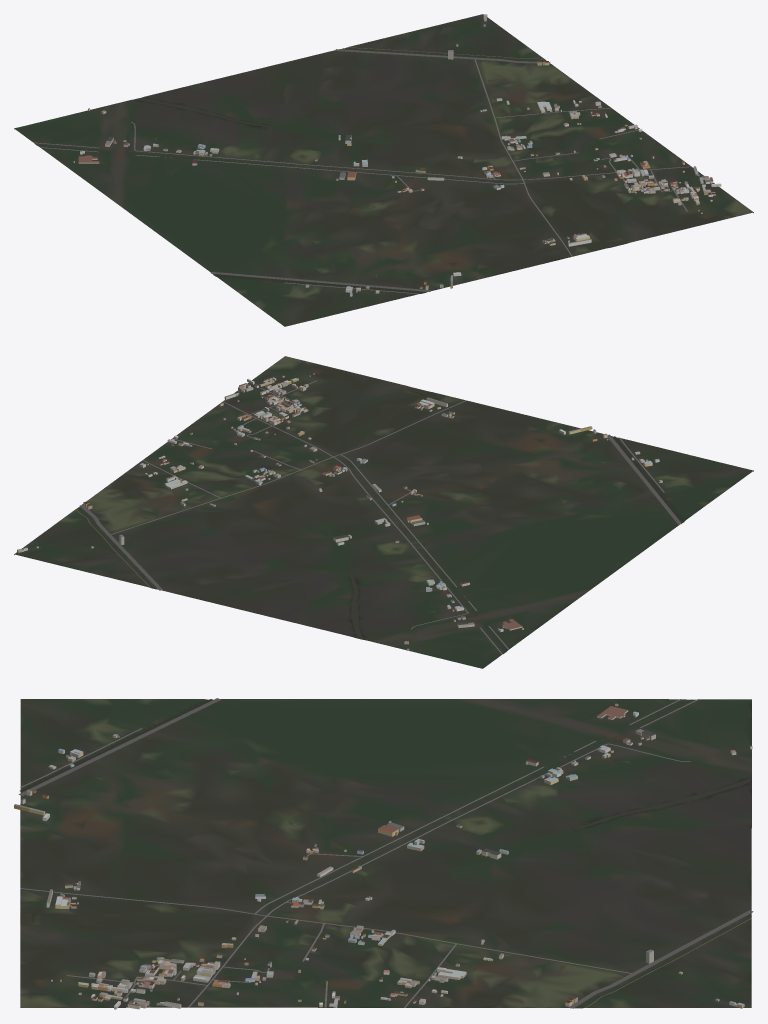
3 views of the same model, one above another, from view 1: azimuth 30°, elevation 25°; view 2: azimuth 150°, elevation 25°; view 3: azimuth 270°, elevation 25° (orthographic). The views are drawn at different scales.
Visible parts, largest first — view 1: ground, buildings, roads, water; view 2: ground, buildings, roads, water; view 3: ground, buildings, roads, water.
Boxes of the visible parts, x1,y1,x2,y2 form: ground: [14, 14, 753, 326]; buildings: [73, 14, 721, 296]; roads: [34, 47, 700, 294]; water: [36, 48, 625, 293]; ground: [14, 356, 753, 668]; buildings: [17, 373, 662, 650]; roads: [76, 380, 681, 654]; water: [78, 387, 683, 652]; ground: [20, 699, 751, 1008]; buildings: [14, 703, 752, 1009]; roads: [18, 698, 753, 1008]; water: [20, 699, 751, 1008].
Size of the model in its own units: 1411 by 27.08 by 1417.
